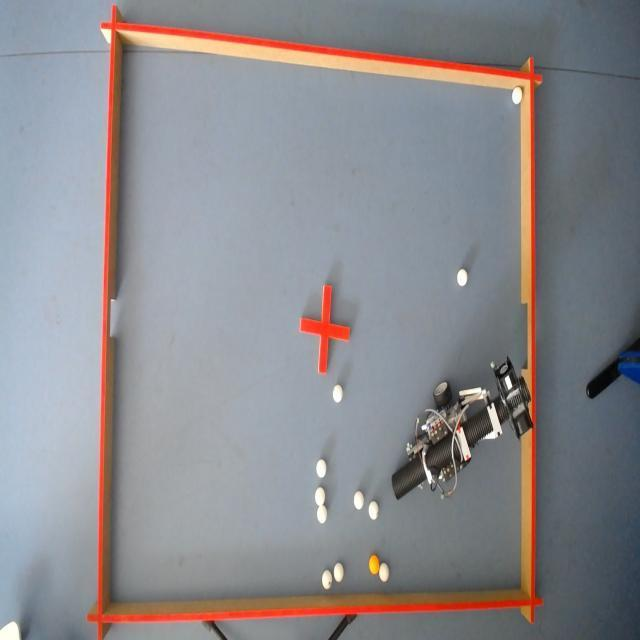orange: (369, 552, 379, 572)
robot: (396, 361, 526, 499)
white: (315, 458, 327, 481), (315, 504, 328, 524), (511, 86, 523, 107), (314, 486, 325, 508), (352, 492, 366, 509), (368, 502, 379, 522), (378, 562, 388, 583), (320, 570, 330, 591), (456, 267, 466, 286), (332, 386, 342, 404), (333, 568, 344, 584)
